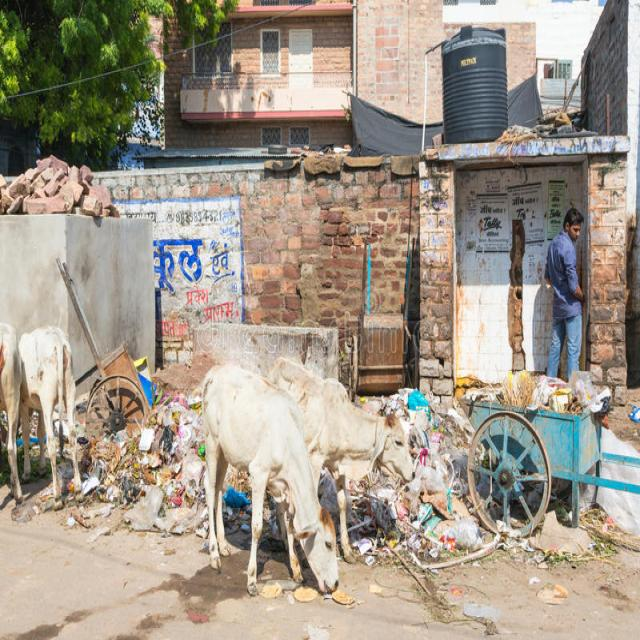garbage: (1, 363, 640, 585)
